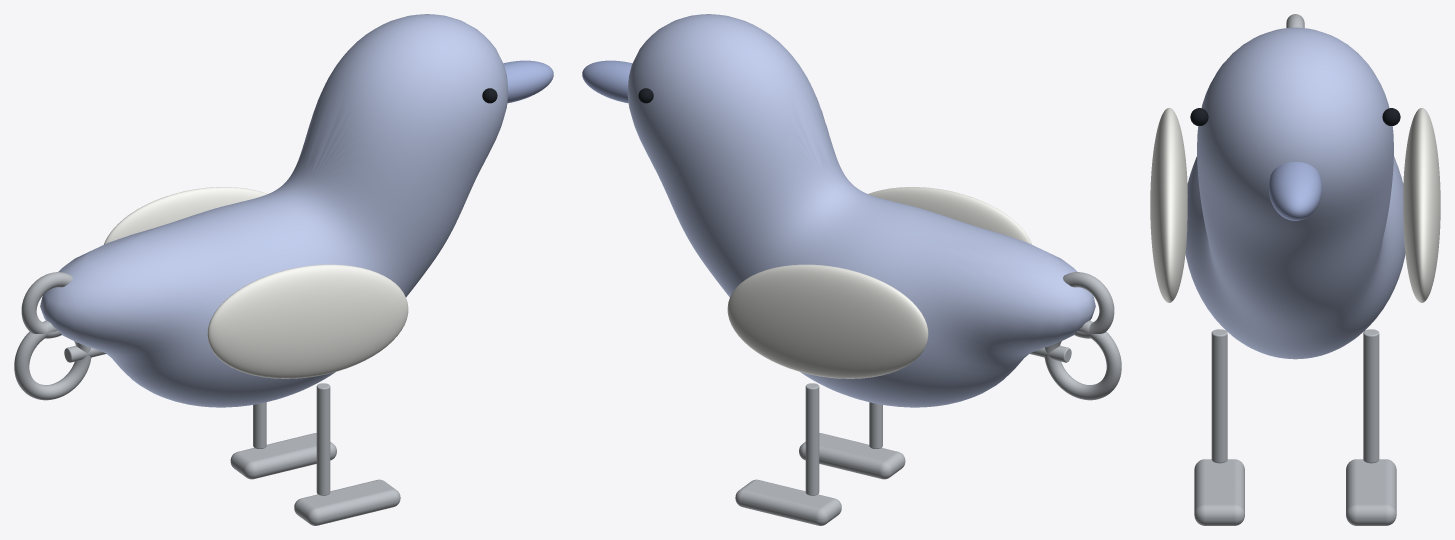
The model's file is wind-up-bird.glb.
3 renders of one model, left to right at view 1: azimuth 30°, elevation 25°; view 2: azimuth 150°, elevation 25°; view 3: azimuth 270°, elevation 25°, orthographic. The views are drawn at different scales.
Visible parts, largest first — view 1: continuous-bird-body-and-neck, sculpted-wings-006, sculpted-wings-005, mechanical-feet-010, mechanical-feet-008, wind-up-key-012, mechanical-feet-009, beak-and-eyes-002, wind-up-key-013, mechanical-feet-007; view 2: continuous-bird-body-and-neck, sculpted-wings-005, sculpted-wings-006, mechanical-feet-008, mechanical-feet-010, wind-up-key-012, mechanical-feet-007, beak-and-eyes-002, wind-up-key-013, mechanical-feet-009; view 3: continuous-bird-body-and-neck, sculpted-wings-005, sculpted-wings-006, mechanical-feet-008, mechanical-feet-010, beak-and-eyes-002, mechanical-feet-007, mechanical-feet-009.
Part boxes in pixels (x1=…): continuous-bird-body-and-neck: x1=40, y1=14, x2=508, y2=407; sculpted-wings-006: x1=207, y1=264, x2=408, y2=378; sculpted-wings-005: x1=104, y1=187, x2=267, y2=244; mechanical-feet-010: x1=294, y1=479, x2=400, y2=525; mechanical-feet-008: x1=230, y1=433, x2=336, y2=479; wind-up-key-012: x1=14, y1=320, x2=91, y2=400; mechanical-feet-009: x1=316, y1=383, x2=330, y2=495; beak-and-eyes-002: x1=503, y1=60, x2=553, y2=103; wind-up-key-013: x1=21, y1=272, x2=72, y2=338; mechanical-feet-007: x1=253, y1=402, x2=266, y2=449; continuous-bird-body-and-neck: x1=627, y1=14, x2=1095, y2=407; sculpted-wings-005: x1=727, y1=264, x2=928, y2=378; sculpted-wings-006: x1=868, y1=187, x2=1031, y2=244; mechanical-feet-008: x1=735, y1=479, x2=841, y2=525; mechanical-feet-010: x1=799, y1=433, x2=905, y2=479; wind-up-key-012: x1=1044, y1=320, x2=1121, y2=400; mechanical-feet-007: x1=805, y1=383, x2=819, y2=495; beak-and-eyes-002: x1=582, y1=60, x2=632, y2=103; wind-up-key-013: x1=1063, y1=272, x2=1114, y2=338; mechanical-feet-009: x1=869, y1=402, x2=882, y2=449; continuous-bird-body-and-neck: x1=1185, y1=27, x2=1405, y2=359; sculpted-wings-005: x1=1403, y1=108, x2=1440, y2=302; sculpted-wings-006: x1=1150, y1=108, x2=1187, y2=302; mechanical-feet-008: x1=1346, y1=459, x2=1396, y2=525; mechanical-feet-010: x1=1194, y1=459, x2=1244, y2=525; beak-and-eyes-002: x1=1269, y1=162, x2=1321, y2=220; mechanical-feet-007: x1=1363, y1=329, x2=1379, y2=463; mechanical-feet-009: x1=1211, y1=329, x2=1227, y2=463.
Bounding box in the file's own units: 2 × 1.57 × 0.7858.
